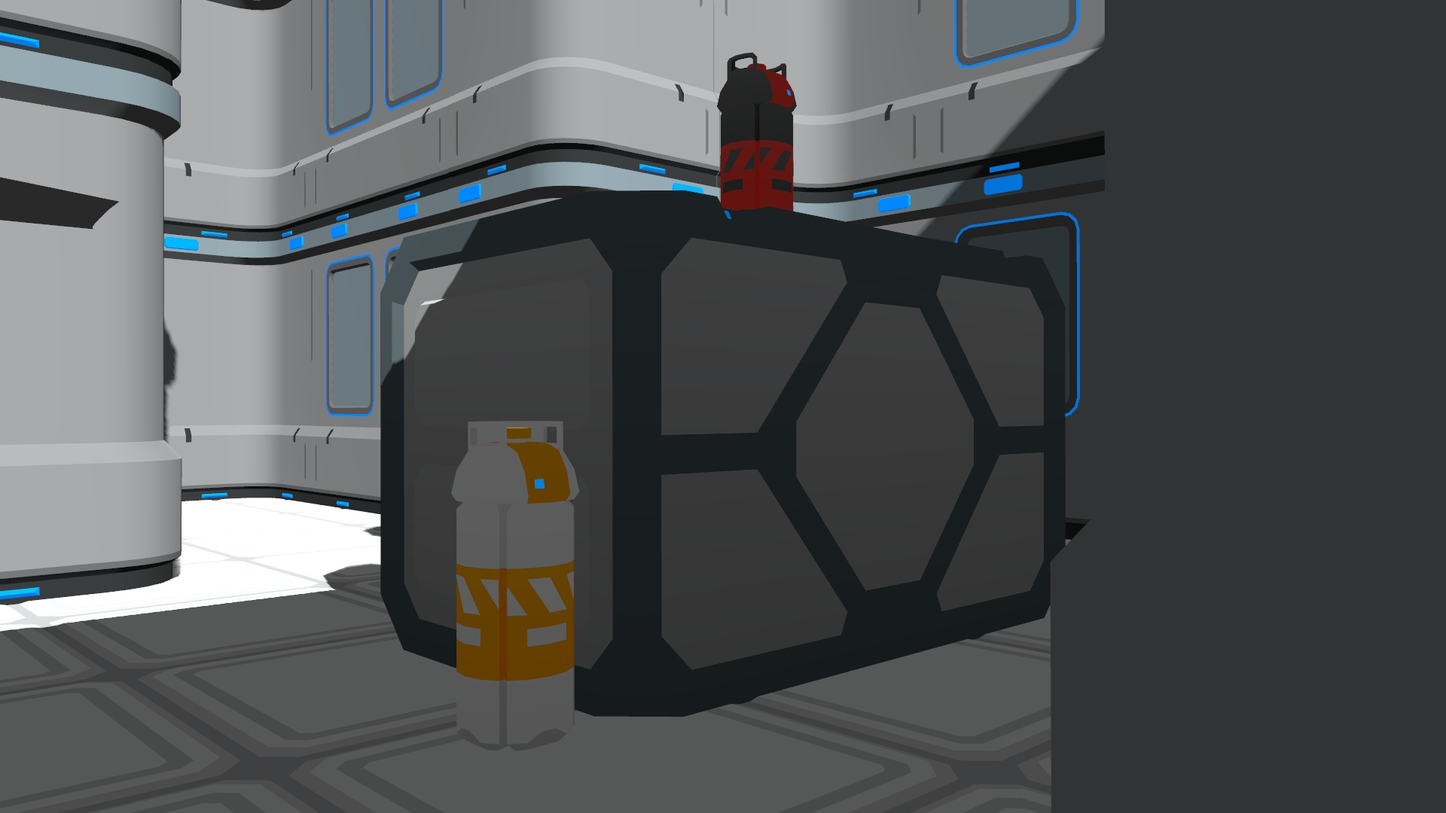red_barrel: (715, 47, 801, 226)
yellow_barrel: (448, 416, 583, 750)
